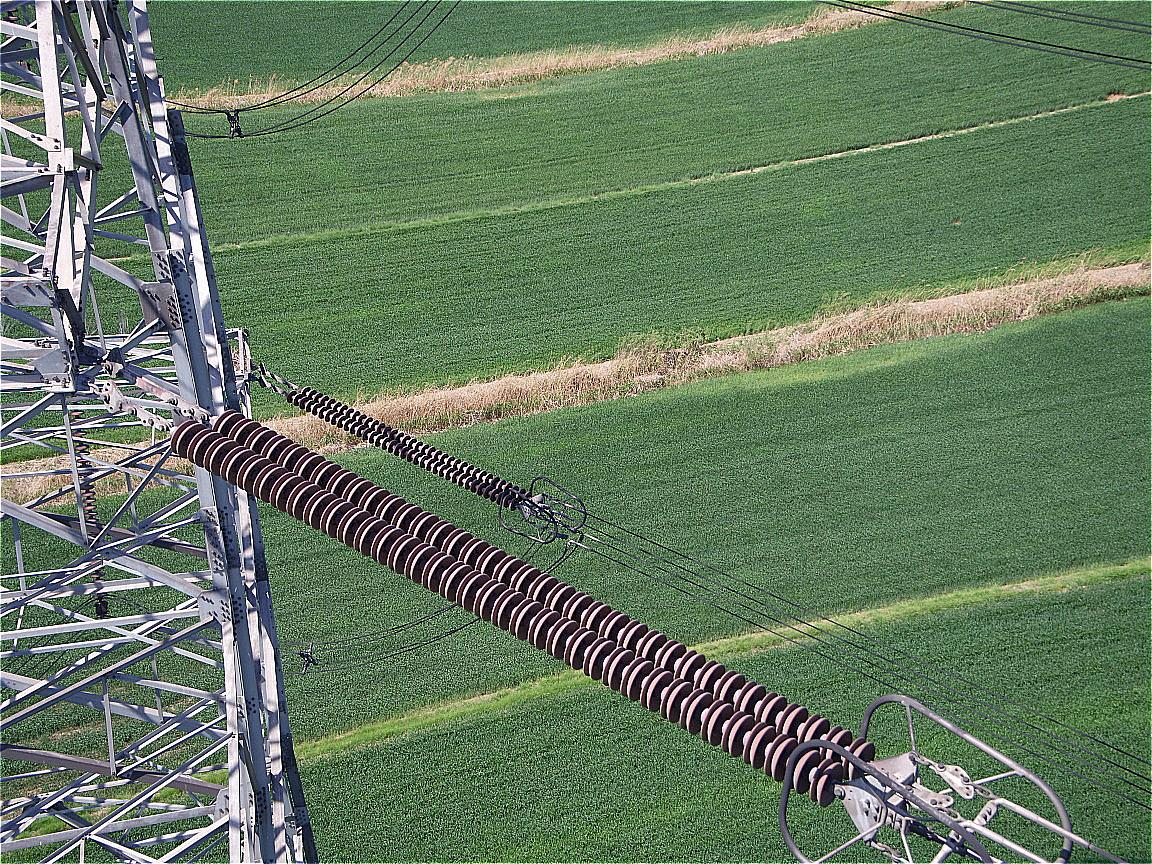insultor1: (288, 384, 527, 509)
insultor2: (169, 411, 875, 808)
